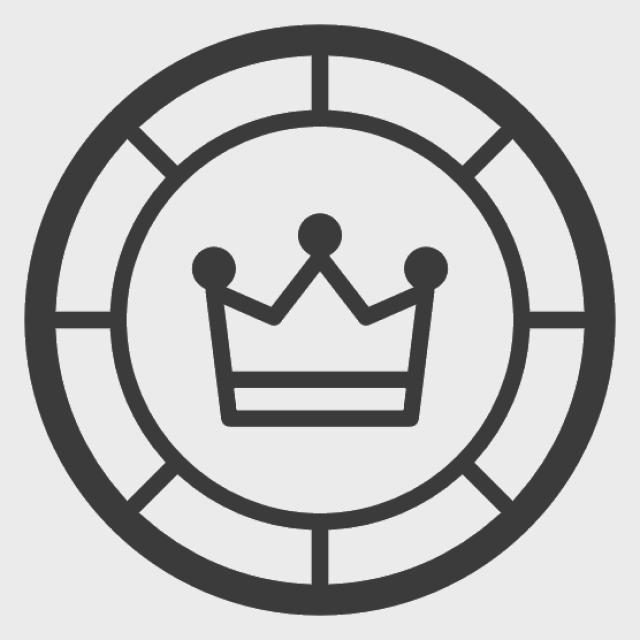coin: (16, 16, 624, 630)
